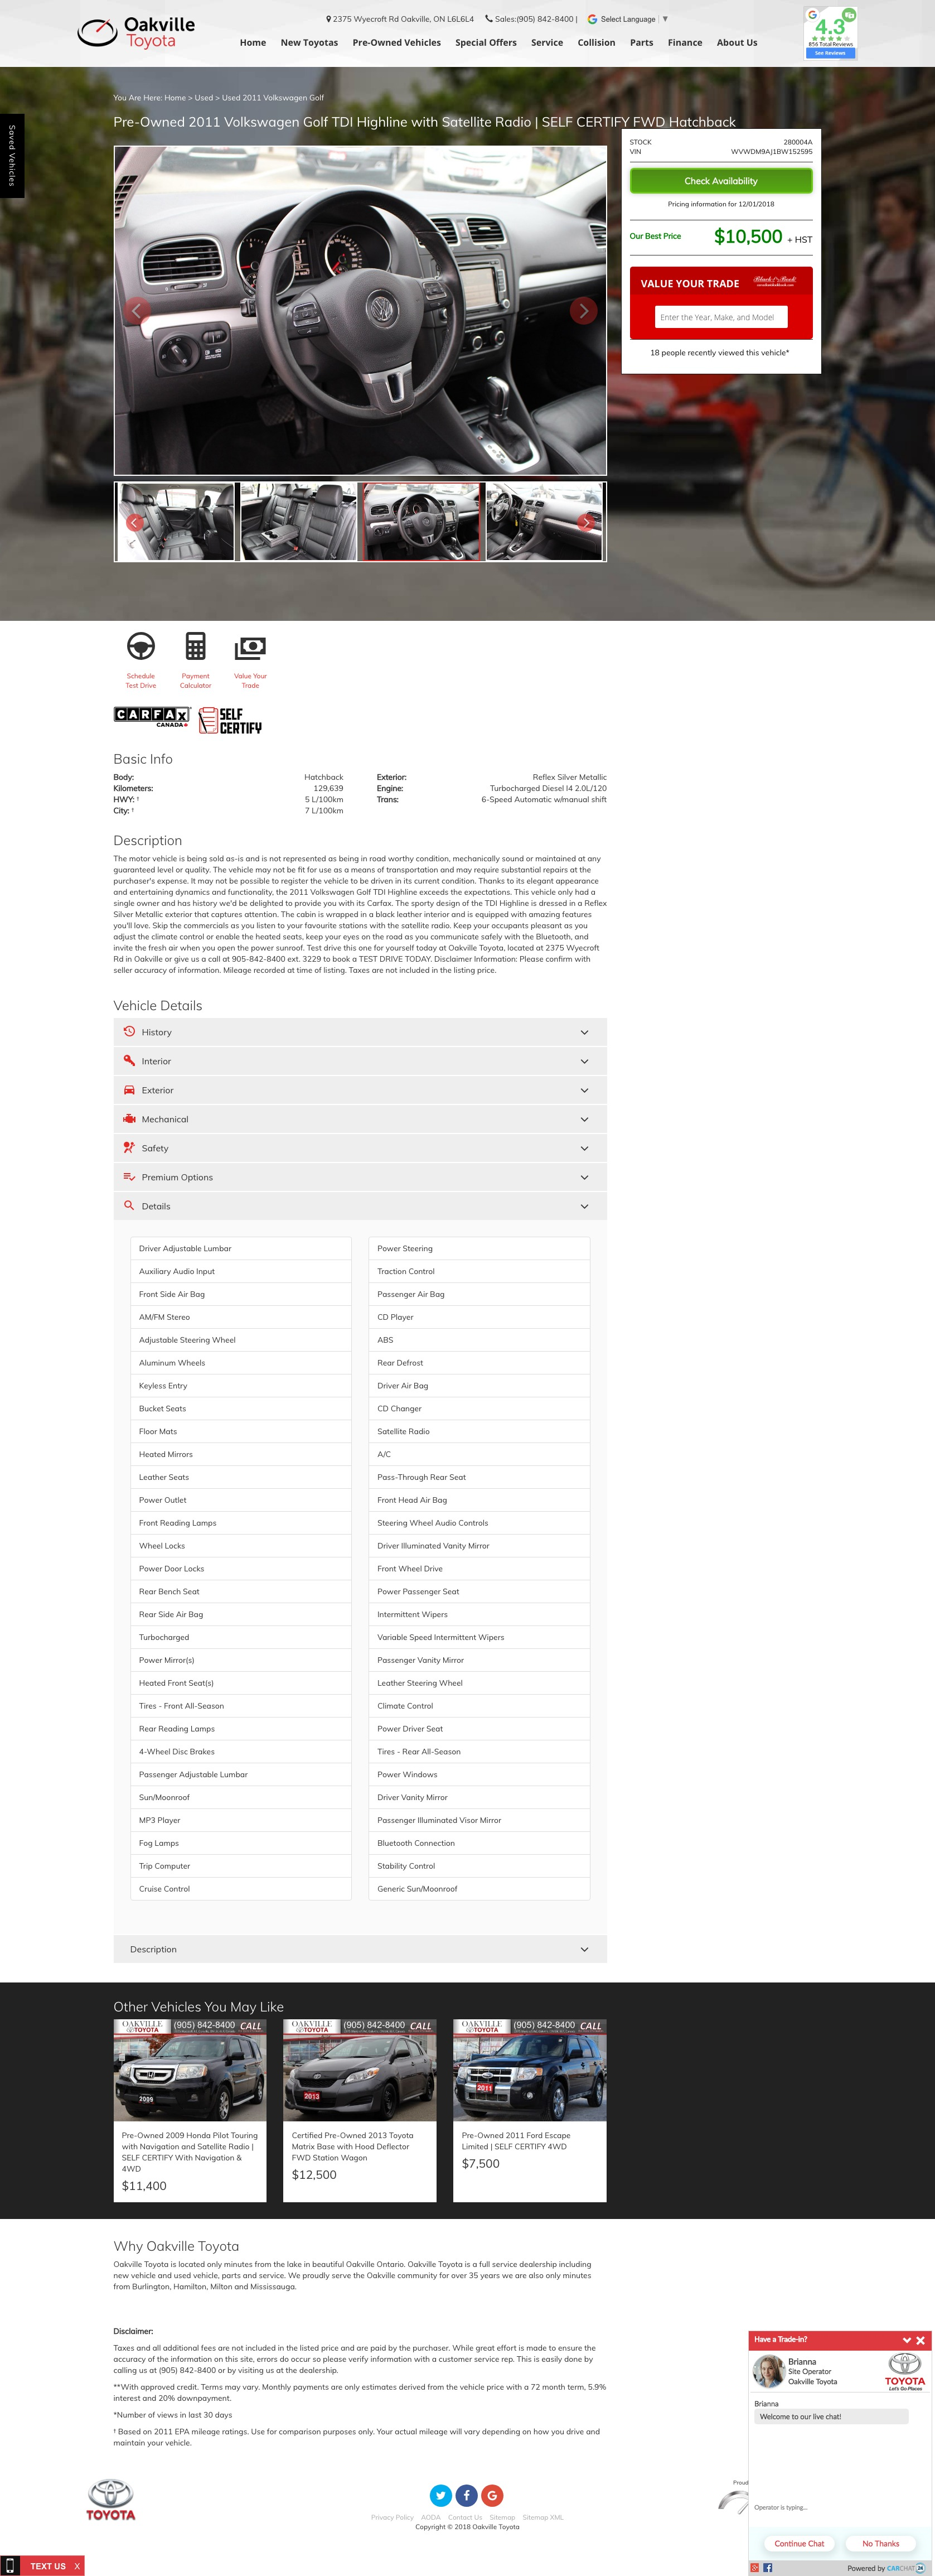car: (583, 519, 590, 529)
